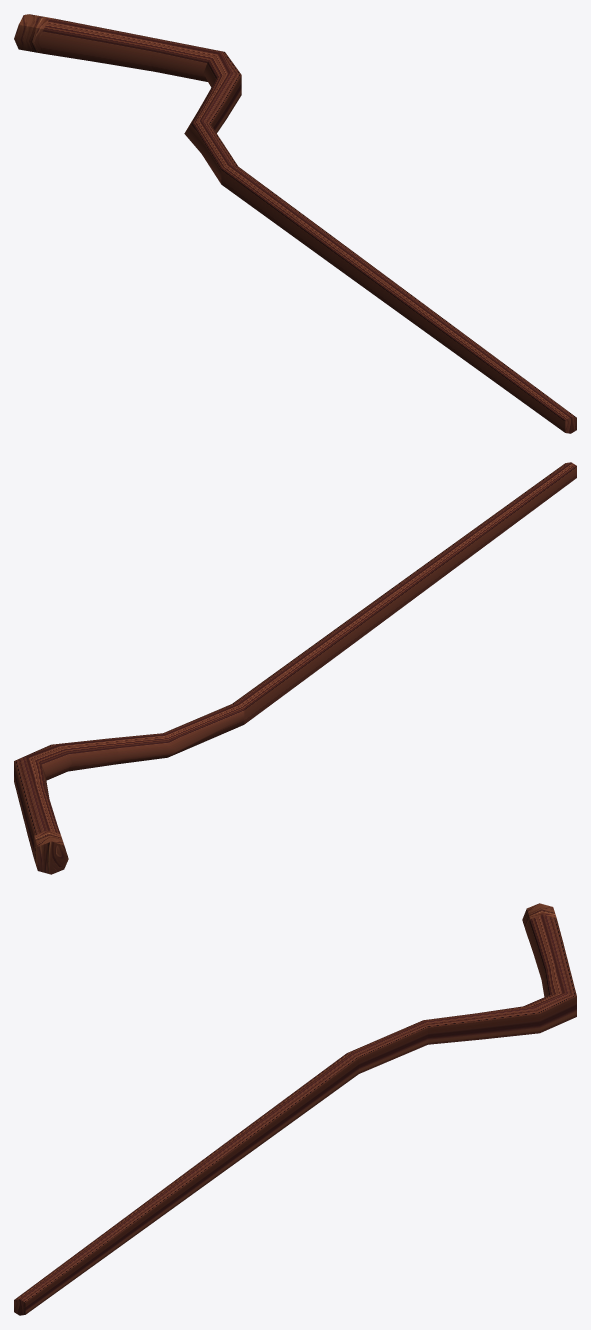
File: staff.fbx
The picture shows the model from 3 angles, top to bottom: view 1: azimuth 30°, elevation 25°; view 2: azimuth 150°, elevation 25°; view 3: azimuth 330°, elevation 25°; orthographic projection. The views are drawn at different scales.
Visible parts, largest first — view 1: stick; view 2: stick; view 3: stick.
Boxes of the visible parts, x1,y1,x2,y2 form: stick: [14, 14, 576, 433]; stick: [14, 462, 576, 874]; stick: [14, 903, 576, 1315].
Size of the model in its own units: 3.46 by 0.8385 by 24.4.
Materials: 1 (1 with a texture image).
